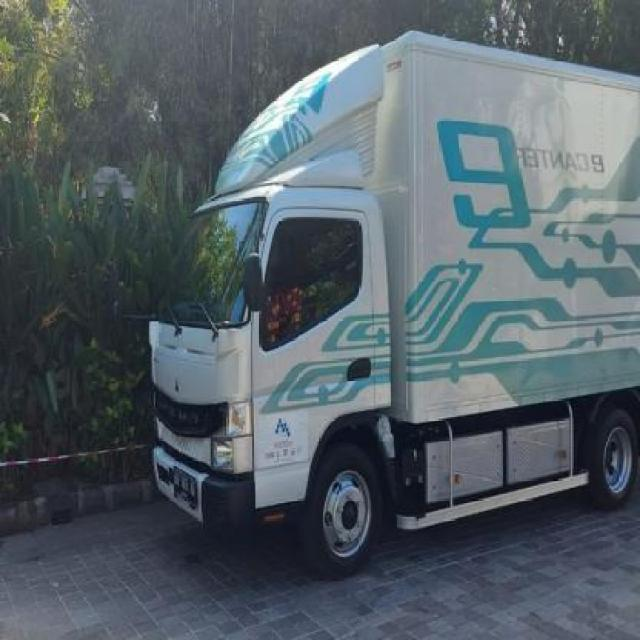truck: (153, 27, 640, 573)
